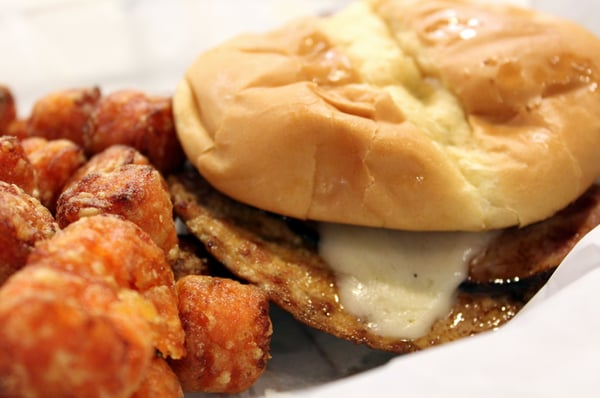soup: (166, 5, 600, 355)
